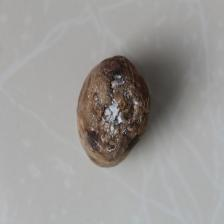Diseased-fungal potato: (73, 52, 154, 171)
